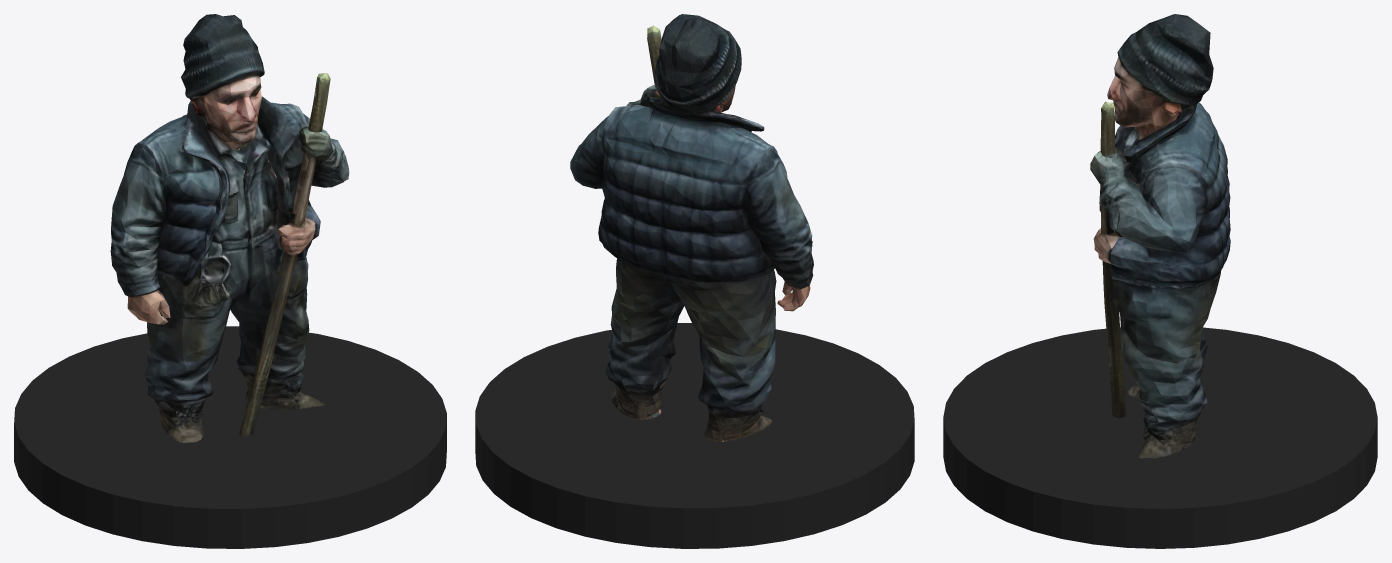
The model's file is brandon-kane.glb.
3 views of the same model, side by side, from view 1: azimuth 30°, elevation 25°; view 2: azimuth 150°, elevation 25°; view 3: azimuth 270°, elevation 25° (orthographic).
Parts seen in each view (by area): view 1: base, figure; view 2: base, figure; view 3: base, figure.
Boxes of the visible parts, x1,y1,x2,y2 form: base: [14, 326, 446, 548]; figure: [110, 14, 349, 442]; base: [475, 323, 914, 548]; figure: [570, 14, 813, 441]; base: [943, 327, 1377, 548]; figure: [1090, 14, 1230, 458].
Size of the model in its own units: 1.18 by 1.32 by 1.18.
2 materials, 1 textured.
